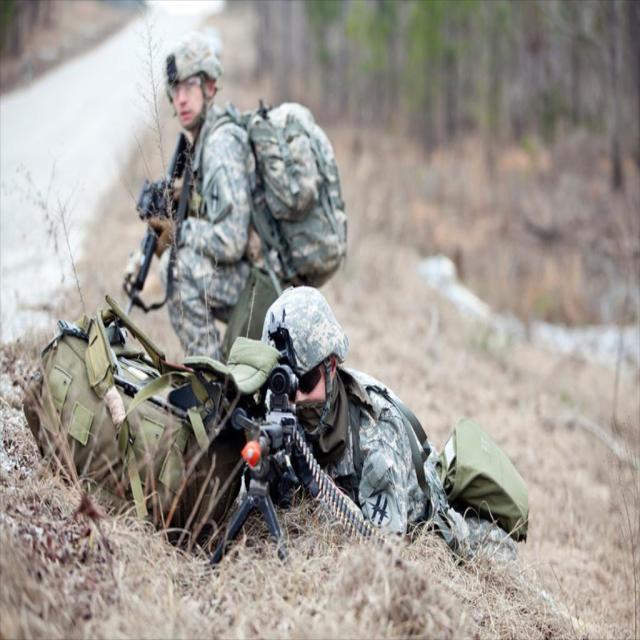Weapon: (216, 318, 340, 556), (100, 103, 240, 300)
